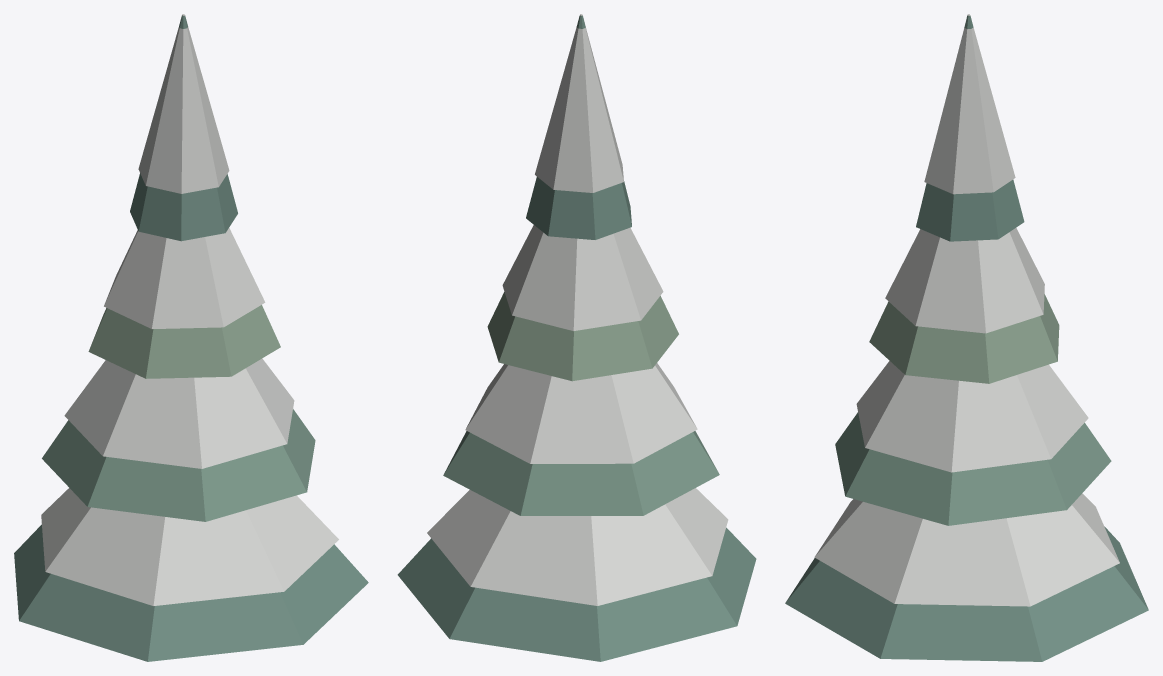
3 views of the same model, side by side, from view 1: azimuth 30°, elevation 25°; view 2: azimuth 150°, elevation 25°; view 3: azimuth 270°, elevation 25° (orthographic).
Visible parts, largest first — view 1: T02; view 2: T02; view 3: T02.
Part boxes in pixels (box(x1,y1,x2,y2)): T02: box(14, 14, 368, 661); T02: box(397, 14, 756, 661); T02: box(785, 14, 1148, 661).
Bounding box in the file's own units: 1.74 × 3.4 × 1.76.
